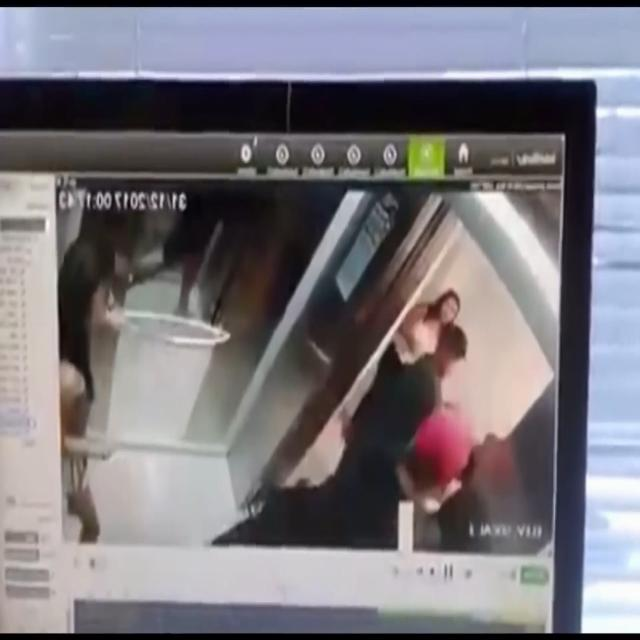fight: (381, 315, 572, 534)
